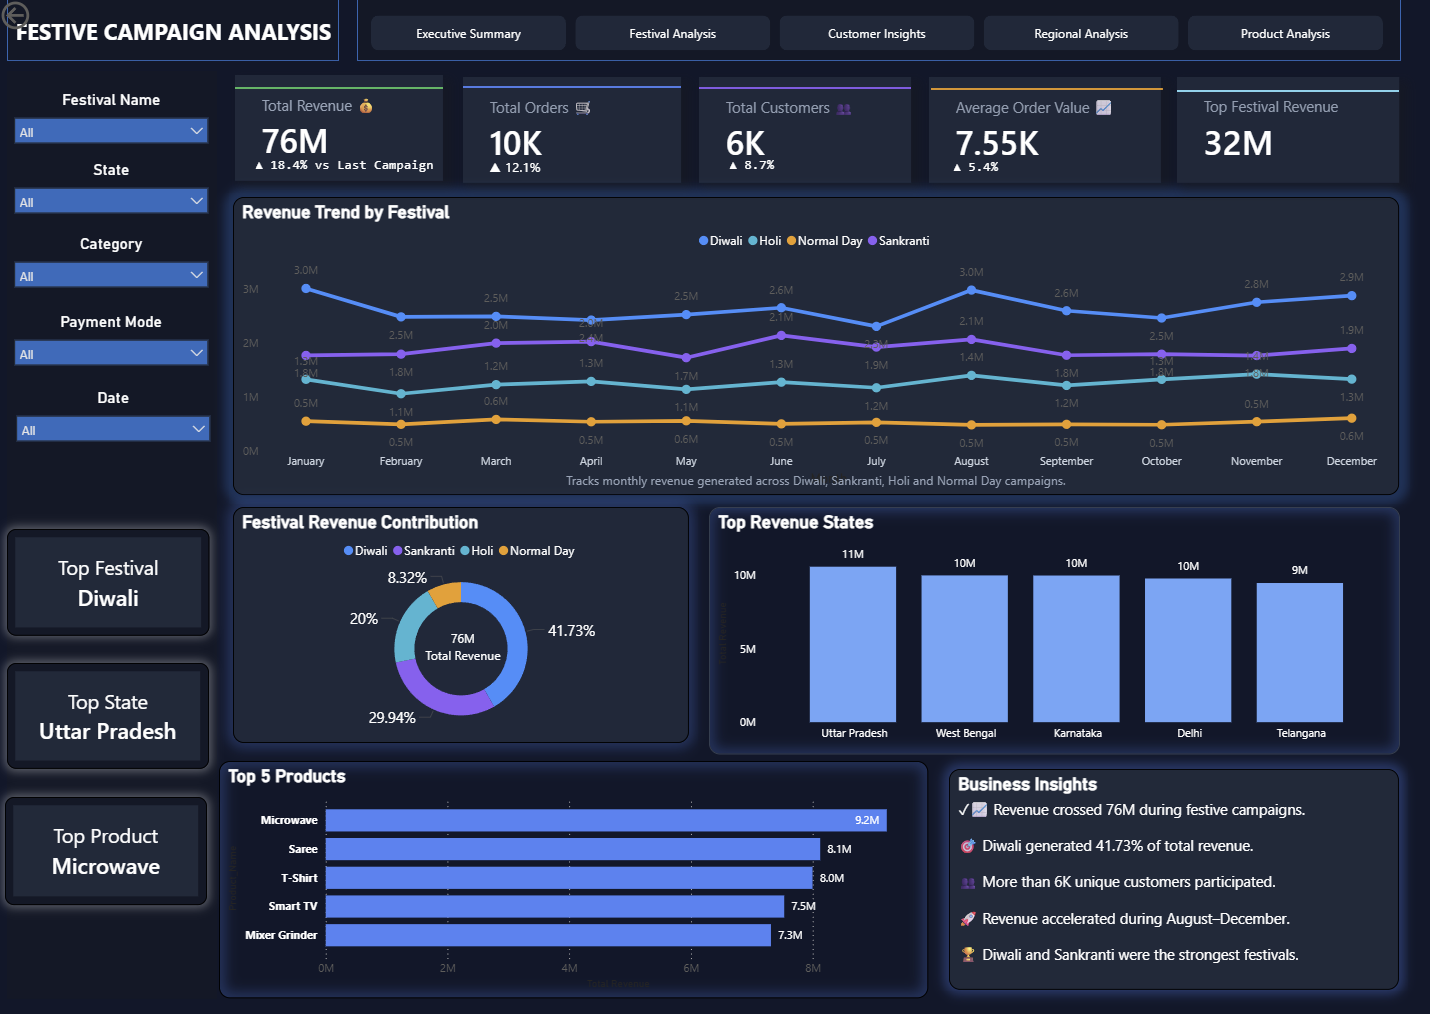

What the dashboard file says about the page in this screenshot:
{"tool":"powerbi","page":{"name":"Executive Summary","canvas":[1561,1108],"ordinal":0},"visuals":[{"type":"shape","box":[10.9,80.4,228.3,1008.7],"z":0},{"type":"shape","box":[10.9,0,360.9,69.6],"z":1000},{"type":"shape","box":[391.3,0,1134.8,69.6],"z":2000},{"type":"pageNavigator","box":[406.5,0,1102.2,58.7],"z":3000},{"type":"textbox","box":[8.7,15.2,363,43.5],"z":4000},{"type":"cardVisual","fields":{"Data":["sales_transactions.Total Revenue"]},"box":[258.7,84.8,226.1,115.2],"z":5000},{"type":"cardVisual","fields":{"Data":["sales_transactions.Average Order Value"]},"box":[1013,87,252.2,115.2],"z":6000},{"type":"cardVisual","fields":{"Data":["Customers.Total Customers"]},"box":[763,87,230.4,115.2],"z":7000},{"type":"cardVisual","fields":{"Data":["sales_transactions.Total Orders"]},"box":[506.5,87,237,115.2],"z":8000},{"type":"shape","box":[258.7,67.4,226.1,63],"z":9000},{"type":"shape","box":[506.5,65.2,237,65.2],"z":10000},{"type":"shape","box":[763,63,230.4,71.7],"z":11000},{"type":"shape","box":[1015.2,67.4,252.2,65.2],"z":12000},{"type":"lineChart","title":"Revenue Trend by Festival","fields":{"Category":["sales_transactions.Date.Variation.Date Hierarchy.Month","sales_transactions.Date.Variation.Date Hierarchy.Day"],"Y":["sales_transactions.Total Revenue"],"Series":["sales_transactions.Festival_Name"]},"box":[256.5,217.4,1267.4,323.9],"z":13000},{"type":"textbox","box":[347.8,510.9,1084.8,30.4],"z":14000},{"type":"donutChart","title":"Festival Revenue Contribution","fields":{"Category":["sales_transactions.Festival_Name"],"Y":["sales_transactions.Total Revenue"]},"box":[256.5,554.3,495.7,256.5],"z":15000},{"type":"cardVisual","fields":{"Data":["sales_transactions.Top Festival Revenue"]},"box":[1282.6,87,241.3,115.2],"z":16000},{"type":"shape","box":[1282.6,69.6,241.3,65.2],"z":17000},{"type":"actionButton","box":[0,0,100,40],"z":18000},{"type":"clusteredBarChart","title":"Top 5 Products","fields":{"Category":["Products.Product_Name"],"Y":["sales_transactions.Total Revenue"]},"box":[242.2,831.1,771.1,257.8],"z":19000},{"type":"textbox","title":"Business Insights","box":[1035.6,840,488.9,240],"z":20000},{"type":"clusteredColumnChart","title":"Top Revenue States","fields":{"Category":["stores.State"],"Y":["sales_transactions.Total Revenue"]},"box":[773.3,553.3,751.1,268.9],"z":21000},{"type":"textbox","box":[454.3,682.6,104.3,65.2],"z":22000},{"type":"slicer","title":"Festival Name","fields":{"Values":["sales_transactions.Festival_Name"]},"box":[8.9,102.2,231.1,73.3],"z":23000},{"type":"slicer","title":"State","fields":{"Values":["stores.State"]},"box":[8.9,177.8,231.1,80],"z":24000},{"type":"slicer","title":"Category","fields":{"Values":["Products.Category"]},"box":[8.9,257.8,231.1,71.1],"z":25000},{"type":"slicer","title":"Payment Mode","fields":{"Values":["sales_transactions.Payment_Mode"]},"box":[8.9,344.4,231.1,71.1],"z":26000},{"type":"slicer","title":"Date","fields":{"Values":["sales_transactions.Date"]},"box":[11.1,426.7,231.1,84.4],"z":27000},{"type":"cardVisual","fields":{"Data":["sales_transactions.Top Festival"]},"box":[10.9,578.3,220,116],"z":28000},{"type":"cardVisual","fields":{"Data":["stores.Top State"]},"box":[10.9,723.9,219.6,115.2],"z":29000},{"type":"cardVisual","fields":{"Data":["Products.Top Product"]},"box":[8.7,869.6,219.6,117.4],"z":30000},{"type":"textbox","box":[276.1,167.4,228.3,65.2],"z":30001},{"type":"textbox","box":[530.4,169.6,243.5,32.6],"z":30002},{"type":"textbox","box":[791.3,167.4,202.2,50],"z":30003},{"type":"textbox","box":[1034.8,169.6,230.4,89.1],"z":30004}]}

Visuals, with their boxes in screenshot pixels (x1, y1, x2, y2), scaled from the page's 1561x1108 canvas onto the 1430x1014 screenshot:
shape: 10, 74, 219, 997
shape: 10, 0, 341, 64
shape: 358, 0, 1398, 64
pageNavigator: 372, 0, 1382, 54
textbox: 8, 14, 341, 54
cardVisual - sales_transactions.Total Revenue: 237, 78, 444, 183
cardVisual - sales_transactions.Average Order Value: 928, 80, 1159, 185
cardVisual - Customers.Total Customers: 699, 80, 910, 185
cardVisual - sales_transactions.Total Orders: 464, 80, 681, 185
shape: 237, 62, 444, 119
shape: 464, 60, 681, 119
shape: 699, 58, 910, 123
shape: 930, 62, 1161, 121
"Revenue Trend by Festival" lineChart: 235, 199, 1396, 495
textbox: 319, 468, 1312, 495
"Festival Revenue Contribution" donutChart: 235, 507, 689, 742
cardVisual - sales_transactions.Top Festival Revenue: 1175, 80, 1396, 185
shape: 1175, 64, 1396, 123
actionButton: 0, 0, 92, 37
"Top 5 Products" clusteredBarChart: 222, 761, 928, 997
"Business Insights" textbox: 949, 769, 1397, 988
"Top Revenue States" clusteredColumnChart: 708, 506, 1396, 752
textbox: 416, 625, 512, 684
"Festival Name" slicer: 8, 94, 220, 161
"State" slicer: 8, 163, 220, 236
"Category" slicer: 8, 236, 220, 301
"Payment Mode" slicer: 8, 315, 220, 380
"Date" slicer: 10, 390, 222, 468
cardVisual - sales_transactions.Top Festival: 10, 529, 212, 635
cardVisual - stores.Top State: 10, 662, 211, 768
cardVisual - Products.Top Product: 8, 796, 209, 903
textbox: 253, 153, 462, 213
textbox: 486, 155, 709, 185
textbox: 725, 153, 910, 199
textbox: 948, 155, 1159, 237
